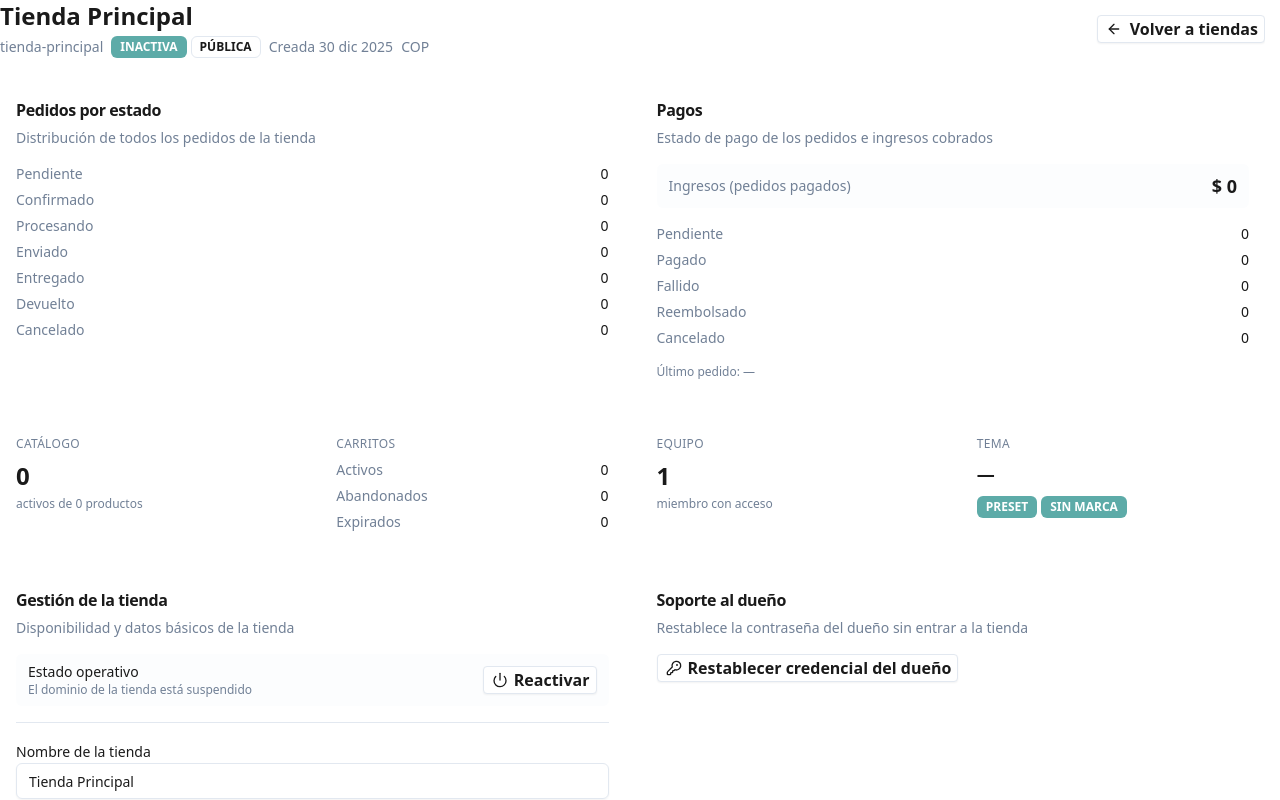
TenantActiveToggle (D7a) › offers Reactivar for a suspended store
Click the button "Reactivar": [540, 680] box [483,666,596,694]
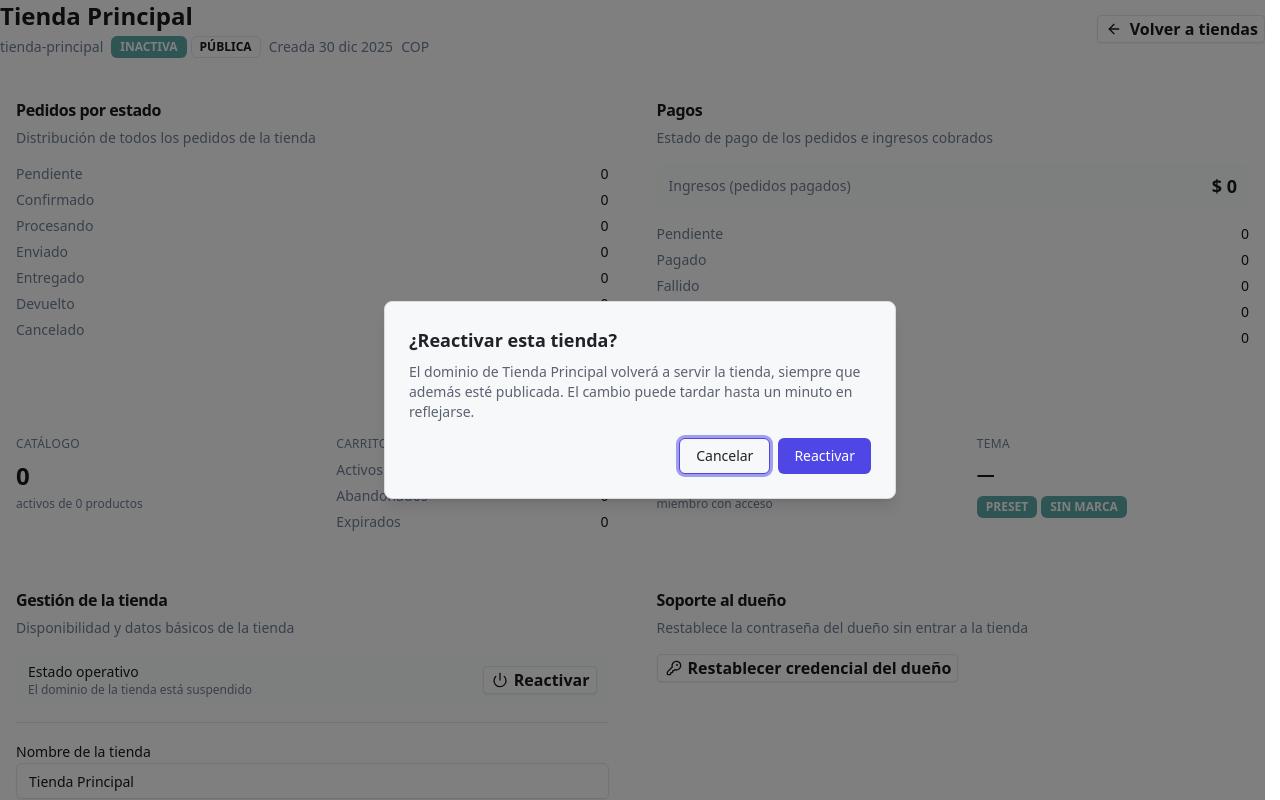
Expected: the text "volverá a servir la tienda" is shown, [409,362,860,421]
